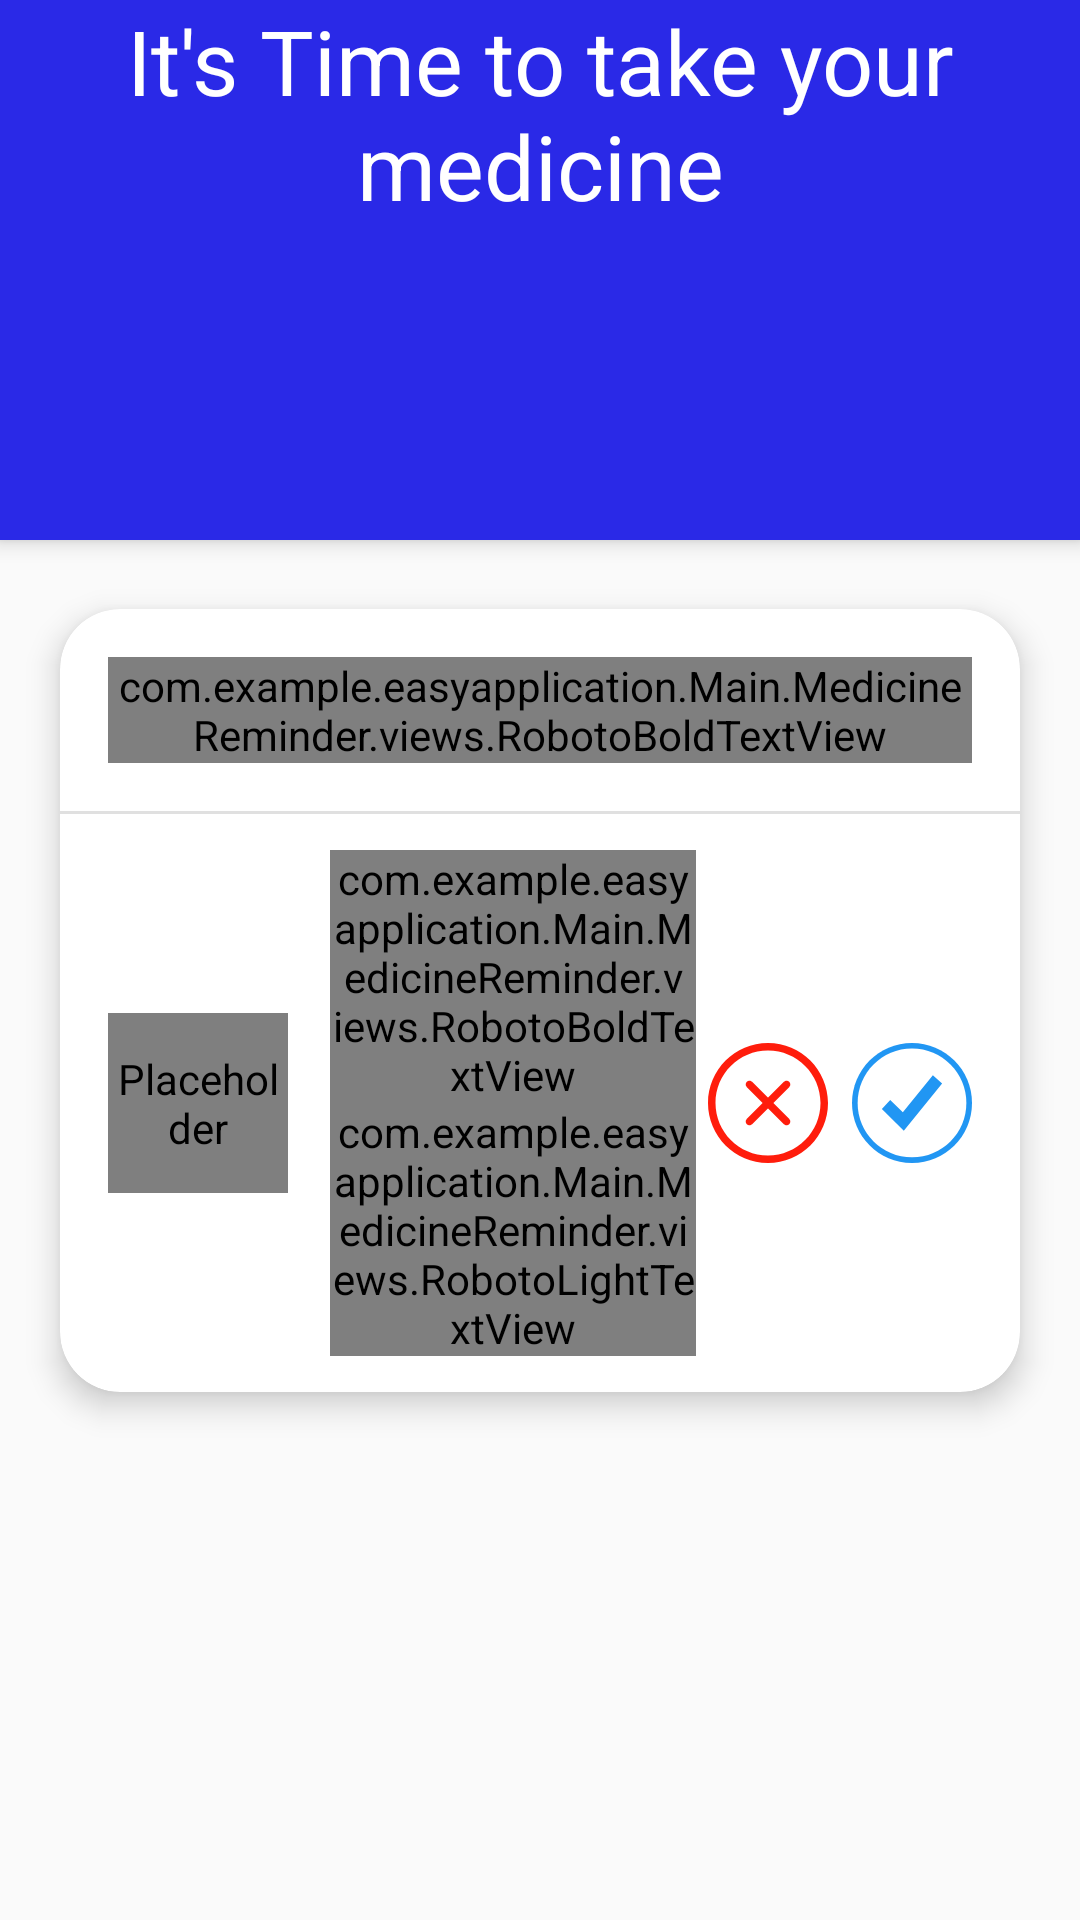

Where icons sit on this 1080x1920 app screen, as (x1, y1, x2, y2):
checked: (852, 1043, 972, 1163)
remove: (708, 1043, 828, 1163)
